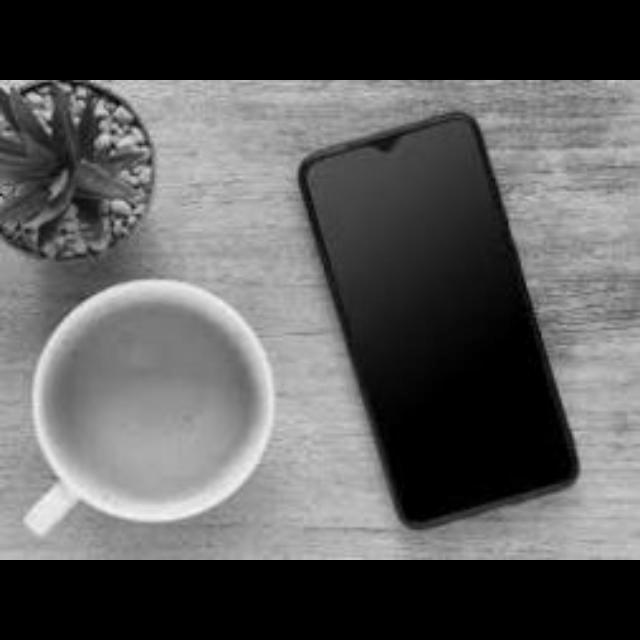fake: (284, 112, 587, 528)
